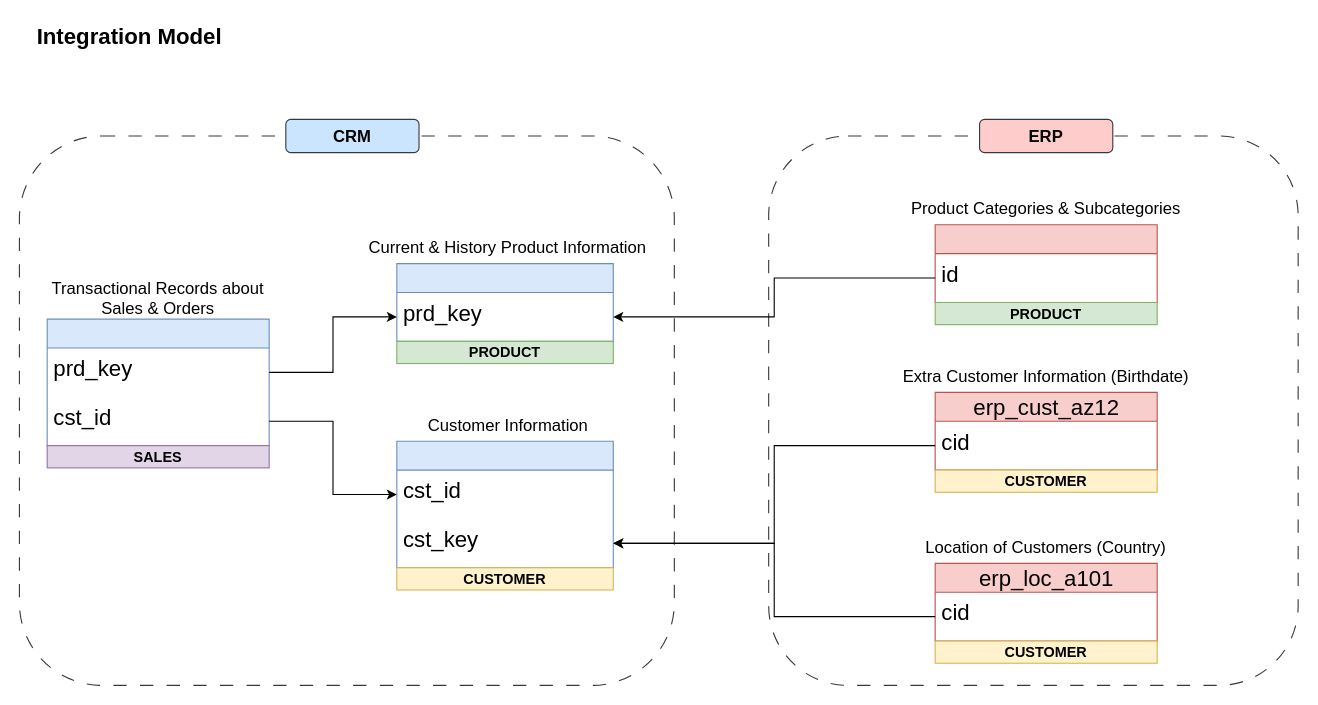
The diagram is 1318 pixels wide and 705 high, and some of its shapes have lost their labels. The shapes that lost their labels are listed below. From the top down, each one's box as (x1, y1, x2, y2) in pixels, then its label:
(934, 224, 1157, 302): erp_px_cat_g1v2
(396, 263, 613, 341): crm_prd_info
(46, 318, 269, 446): crm_sales_details
(396, 440, 613, 568): crm_cust_info
